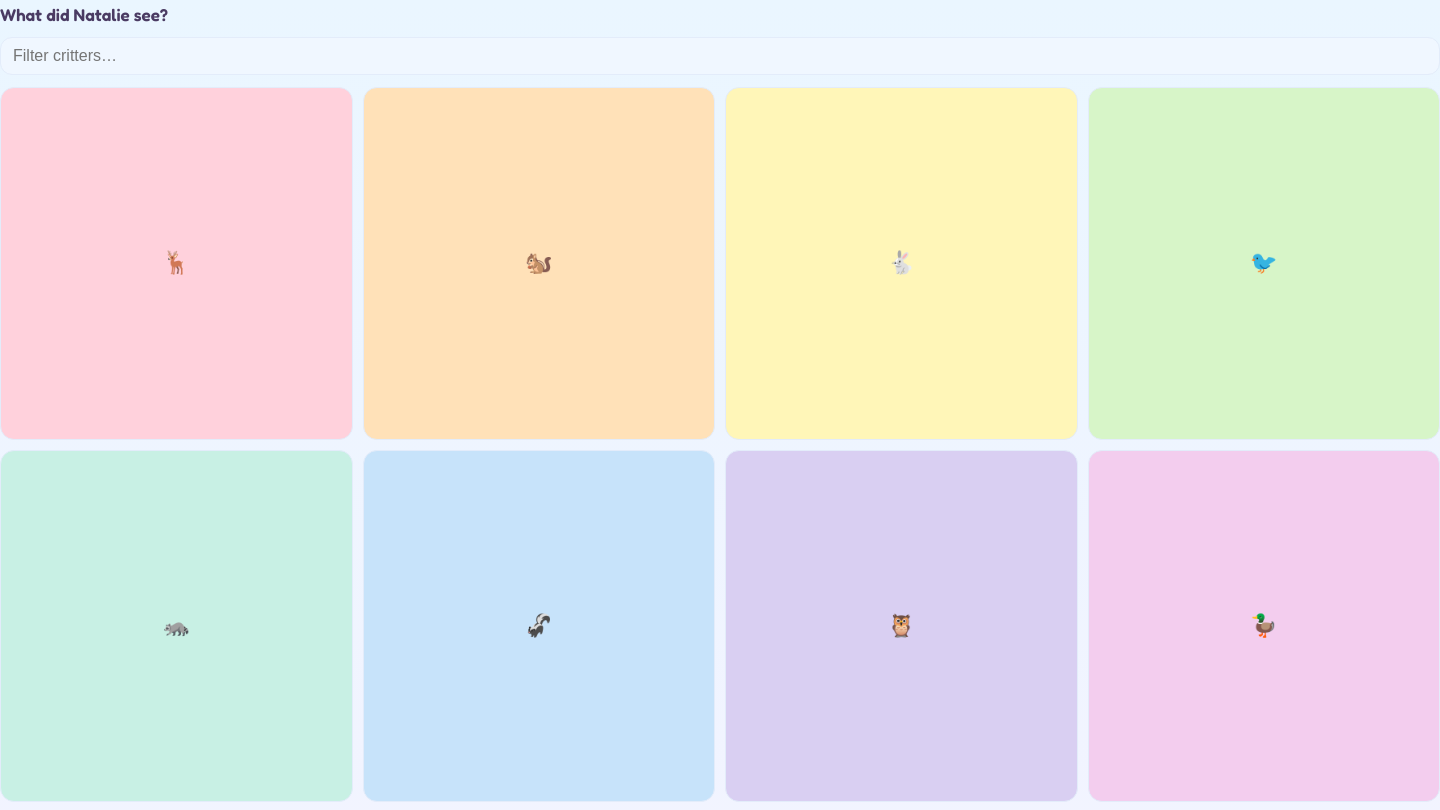
Scenario: EmojiPicker filter › shows a no-match message and keeps the request link
Type "zzzznope" into the search field labelled "Filter critters".
click(720, 56); type("zzzznope")  # box [0,37,1439,75]
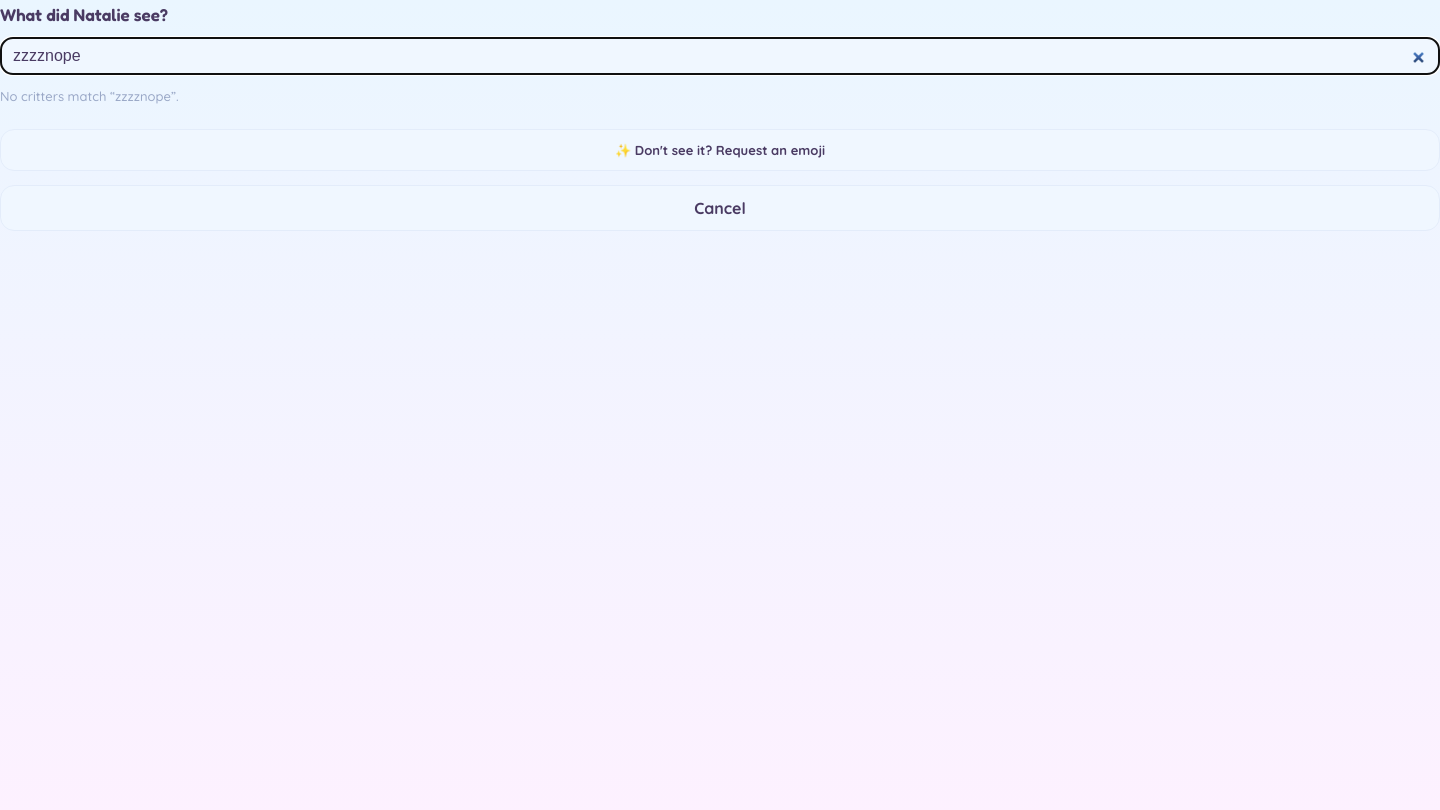
expect the button "✨ Don't see it? Request an emoji" is shown: met, box [0,129,1439,171]
expect the text "No critters match “zzzznope”." is shown: met, box [0,88,179,104]
